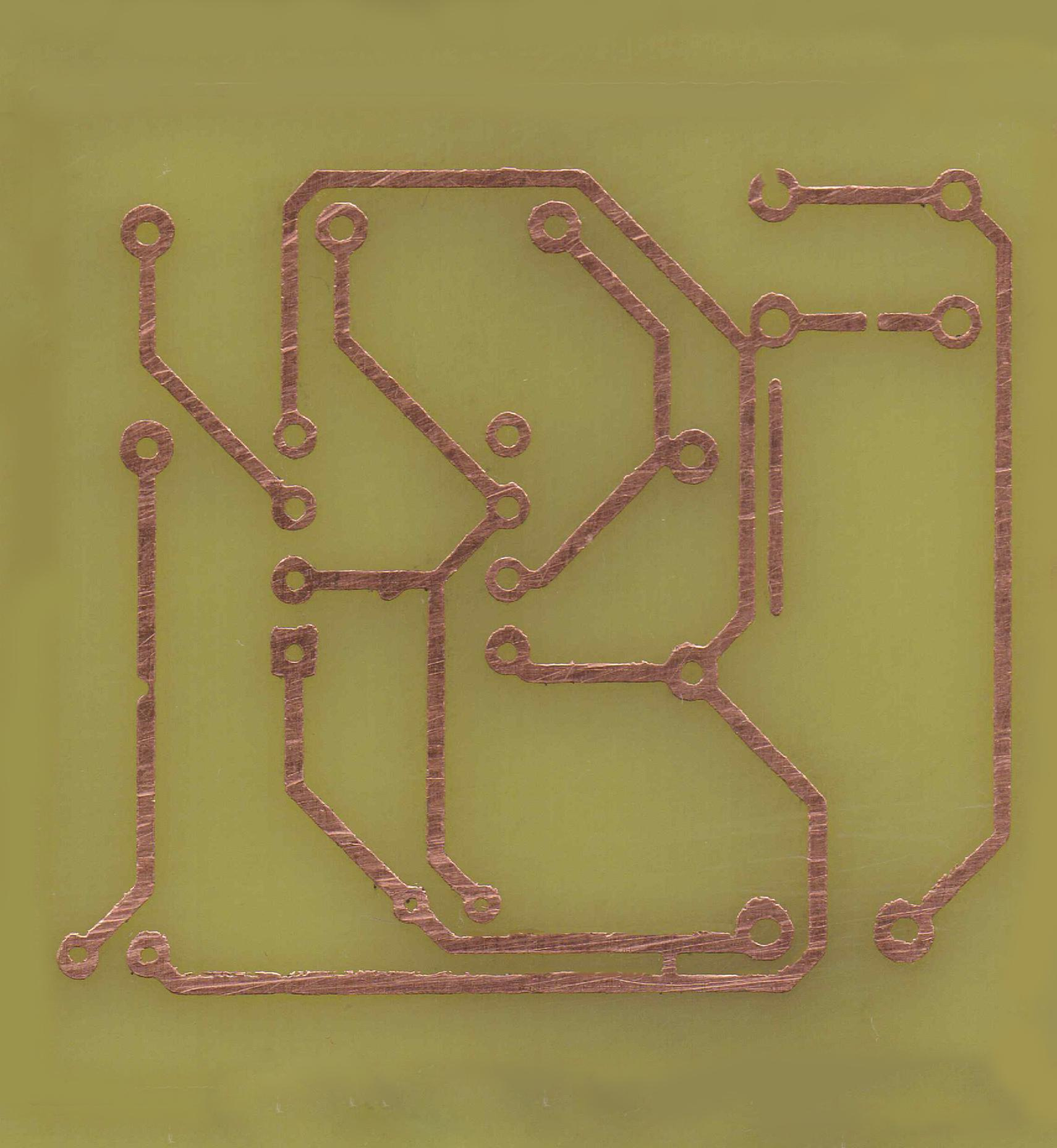missing_hole: (742, 158, 804, 229)
mouse_bite: (130, 659, 163, 714)
open_circuit: (857, 301, 885, 343)
short: (654, 925, 690, 999)
spur: (371, 563, 410, 610)
spurious_copper: (765, 370, 794, 617)
